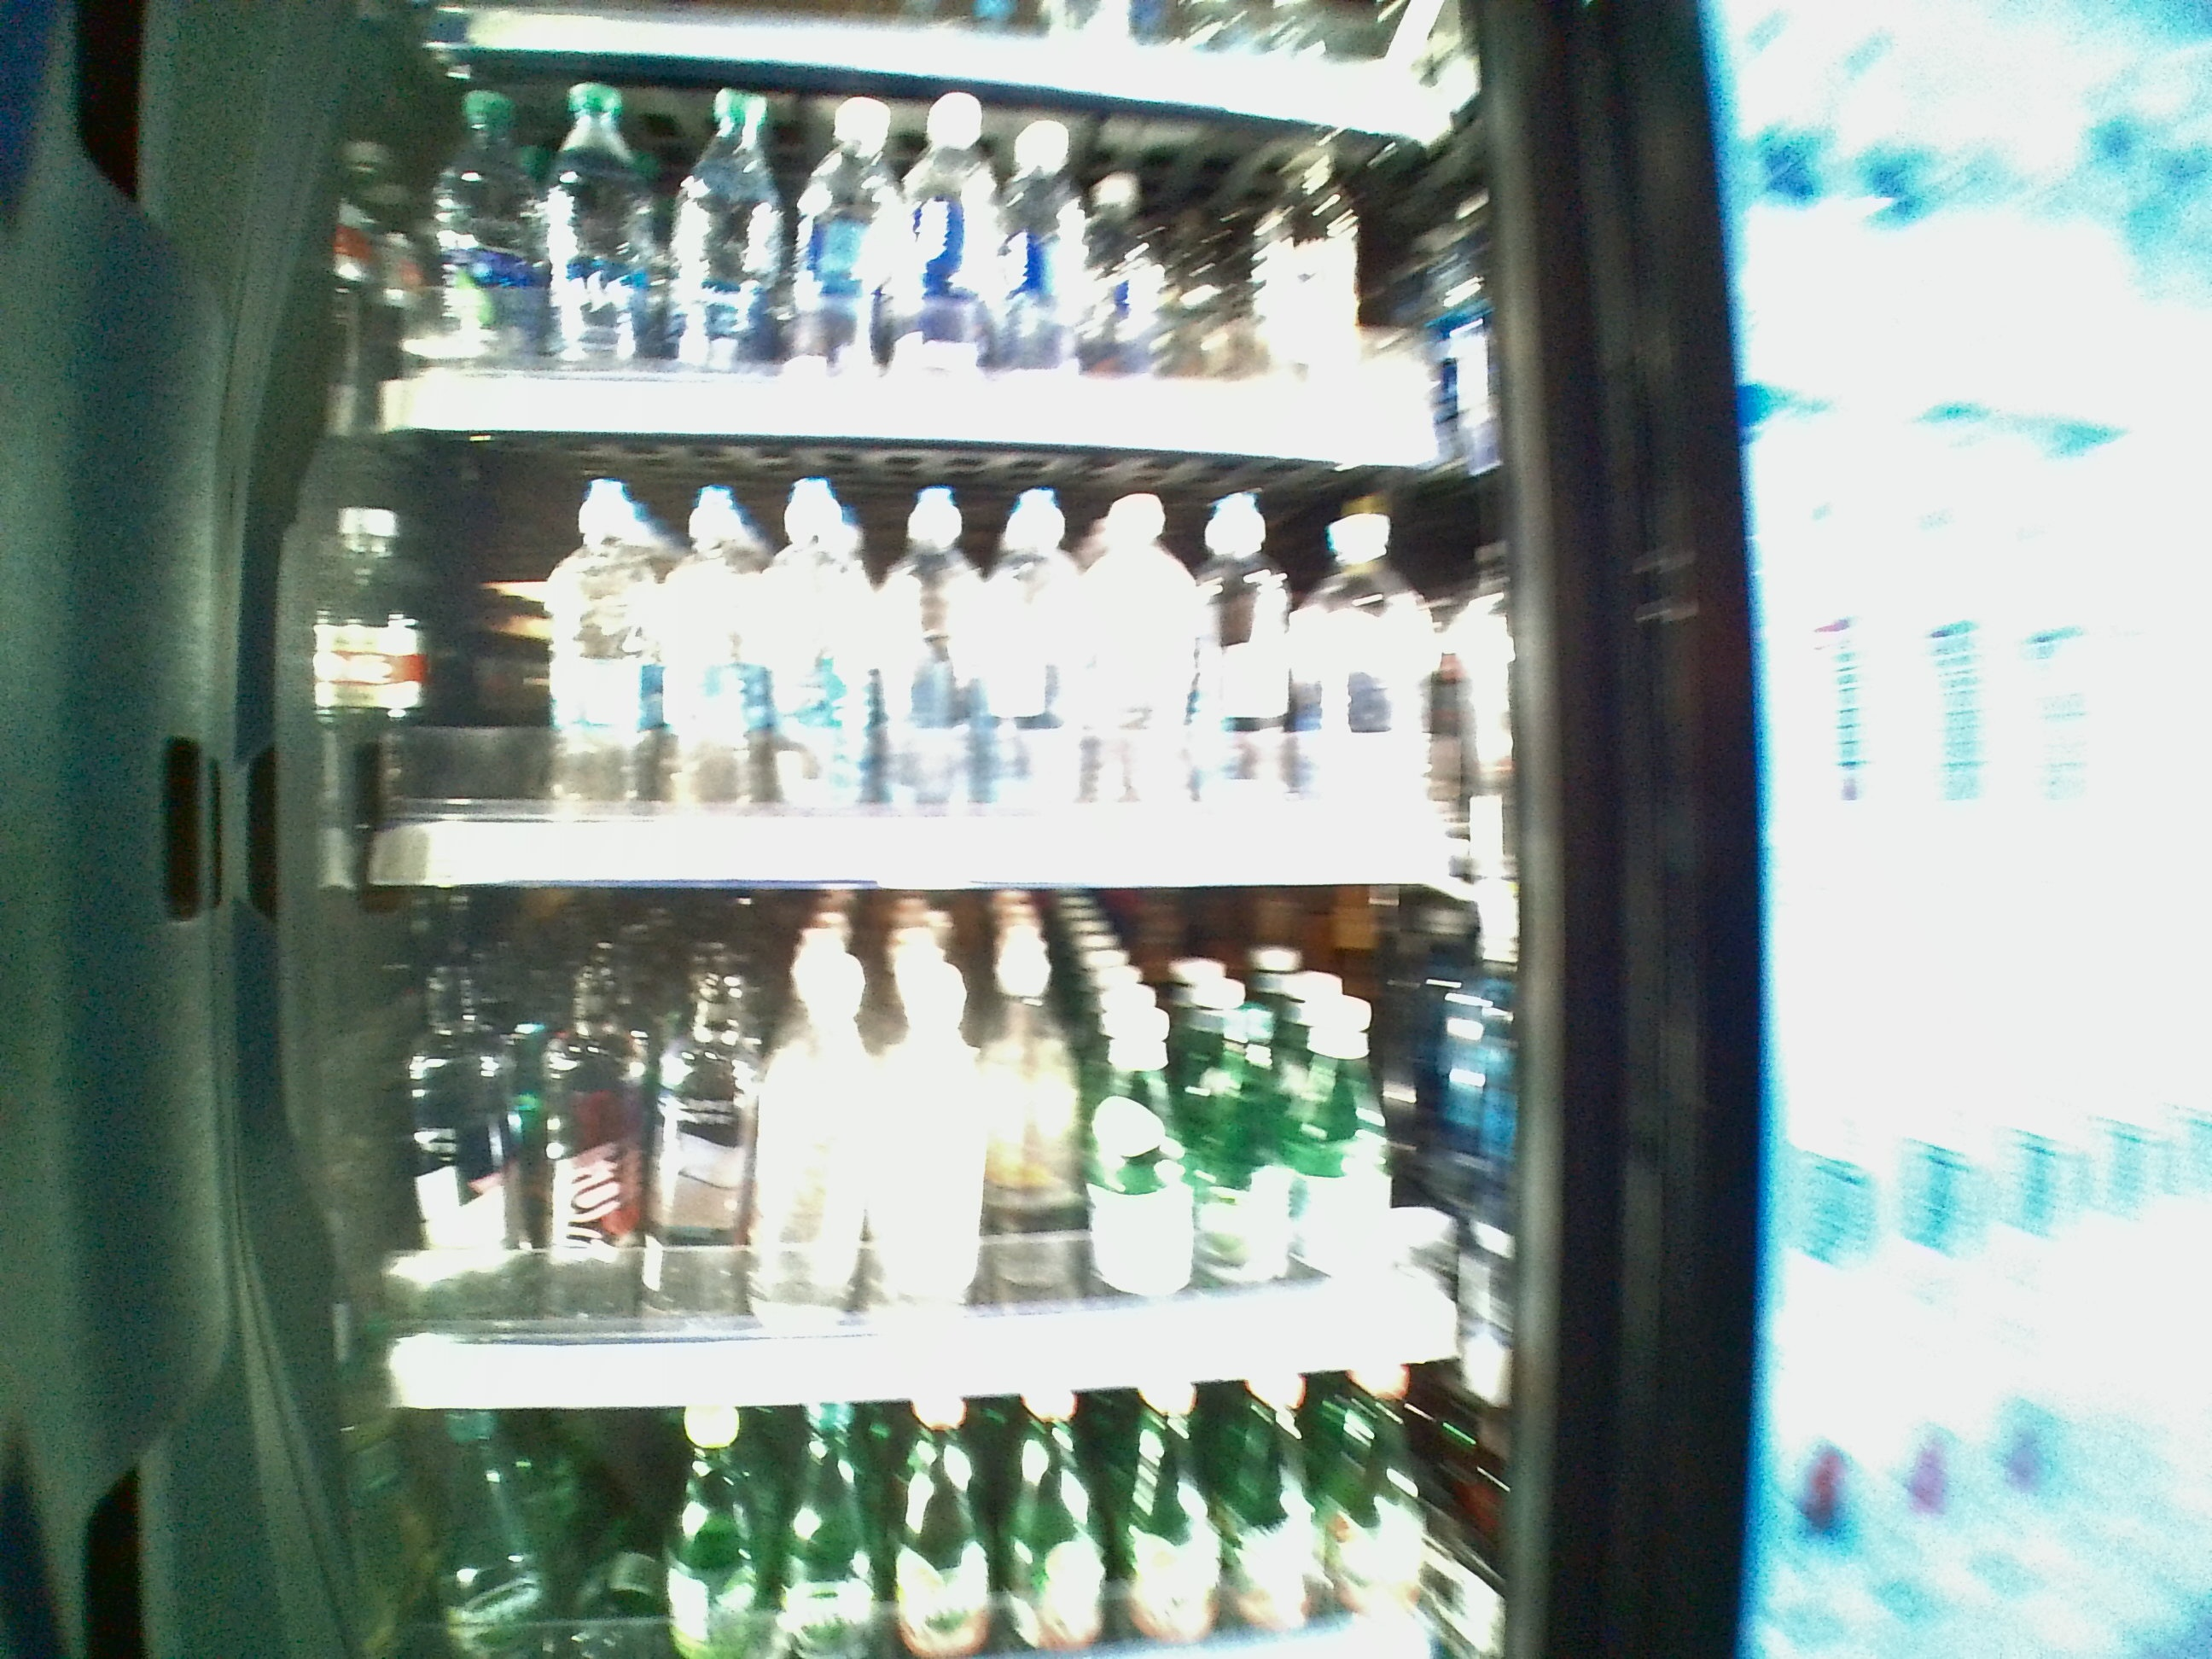shelf: (359, 884, 1594, 1419), (359, 425, 1491, 889)
